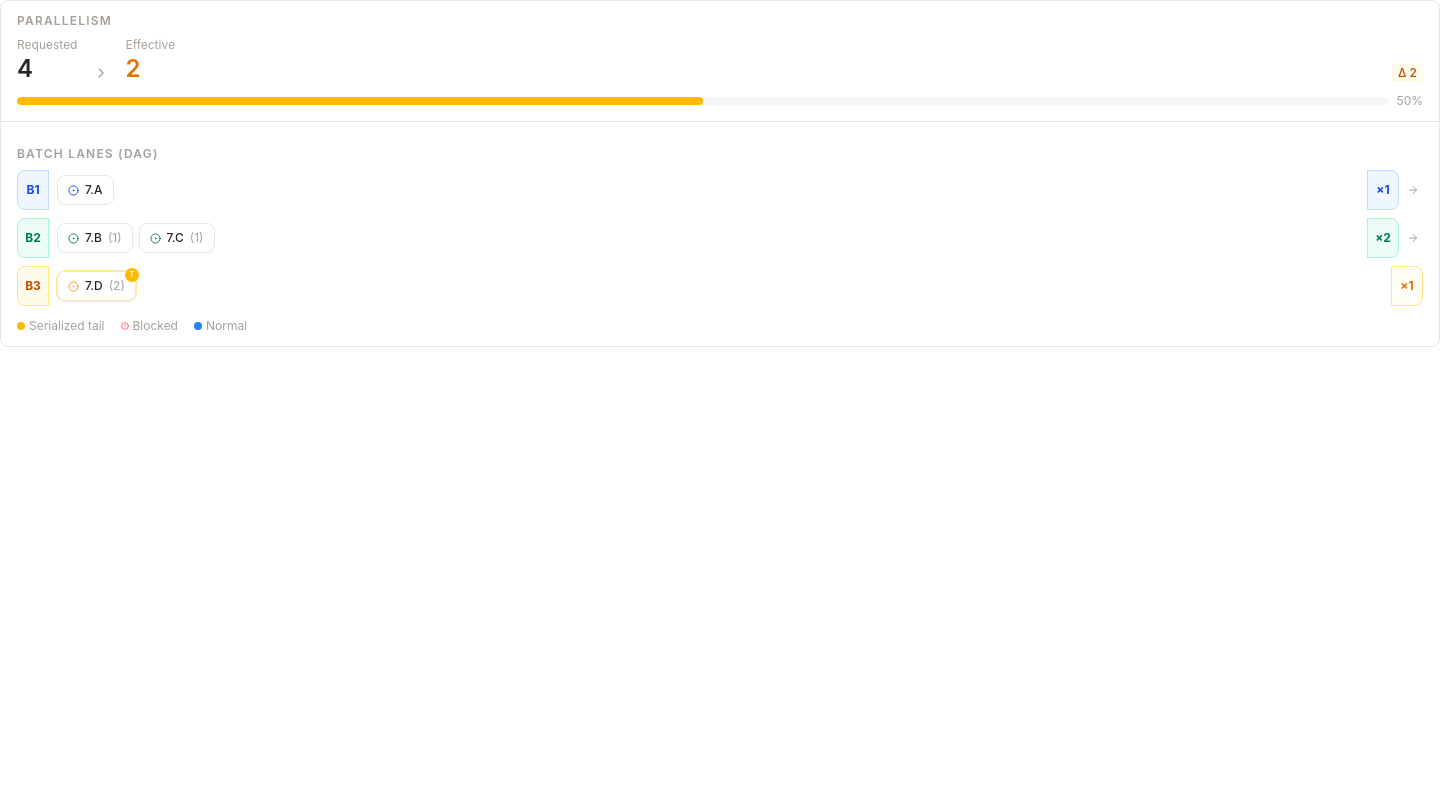
AC 3: Allows dependency editing with preview-before-save › adds a pending remove-dependency edit
What coordinates should you click on to do the following:
click the text "7.D"
I would click on:
 (94, 286)
Its box is left=85, top=278, right=103, bottom=294.
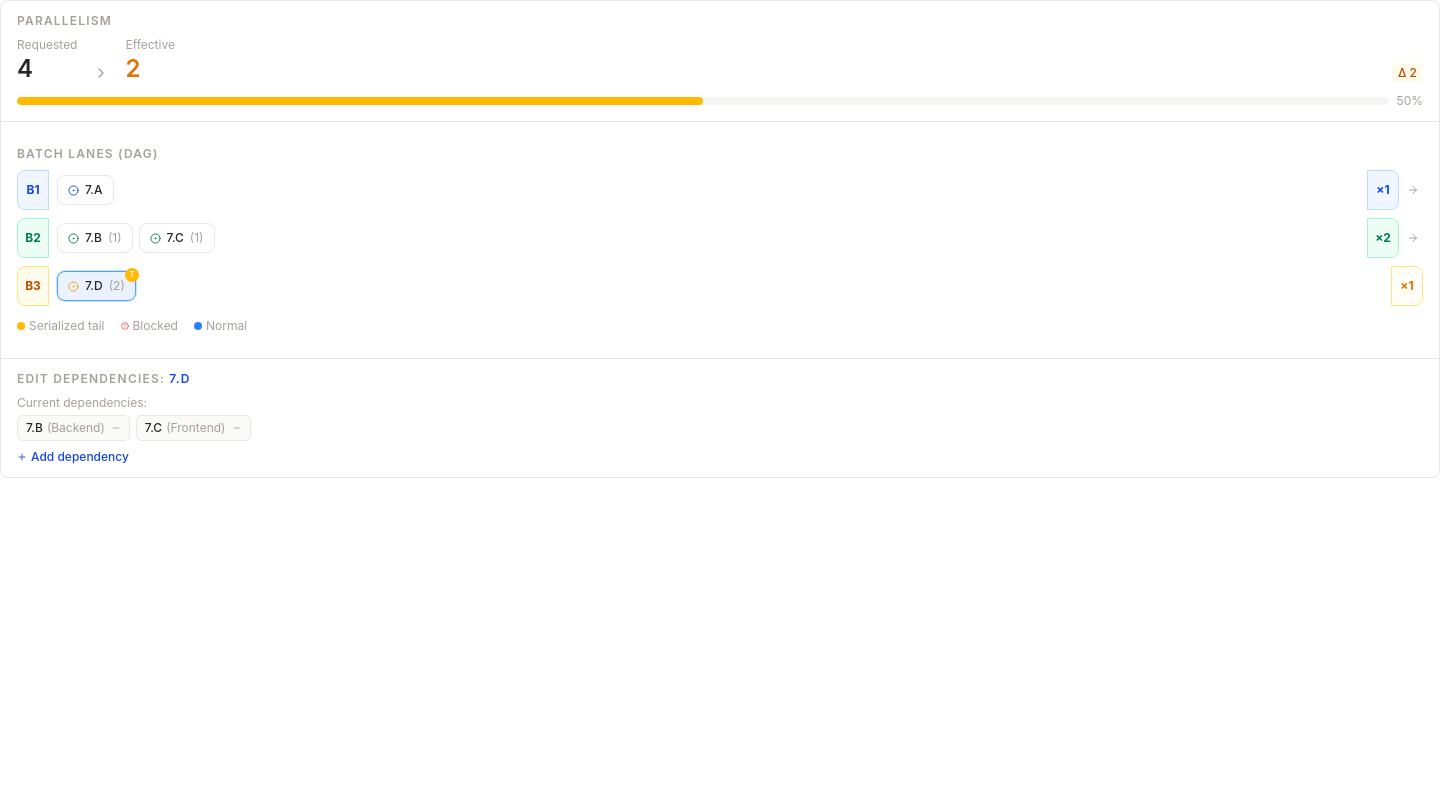
What coordinates should you click on to do the following:
click the button titled "Remove dependency" next to "Frontend"
I would click on:
 (236, 428)
Its box is left=232, top=423, right=242, bottom=433.
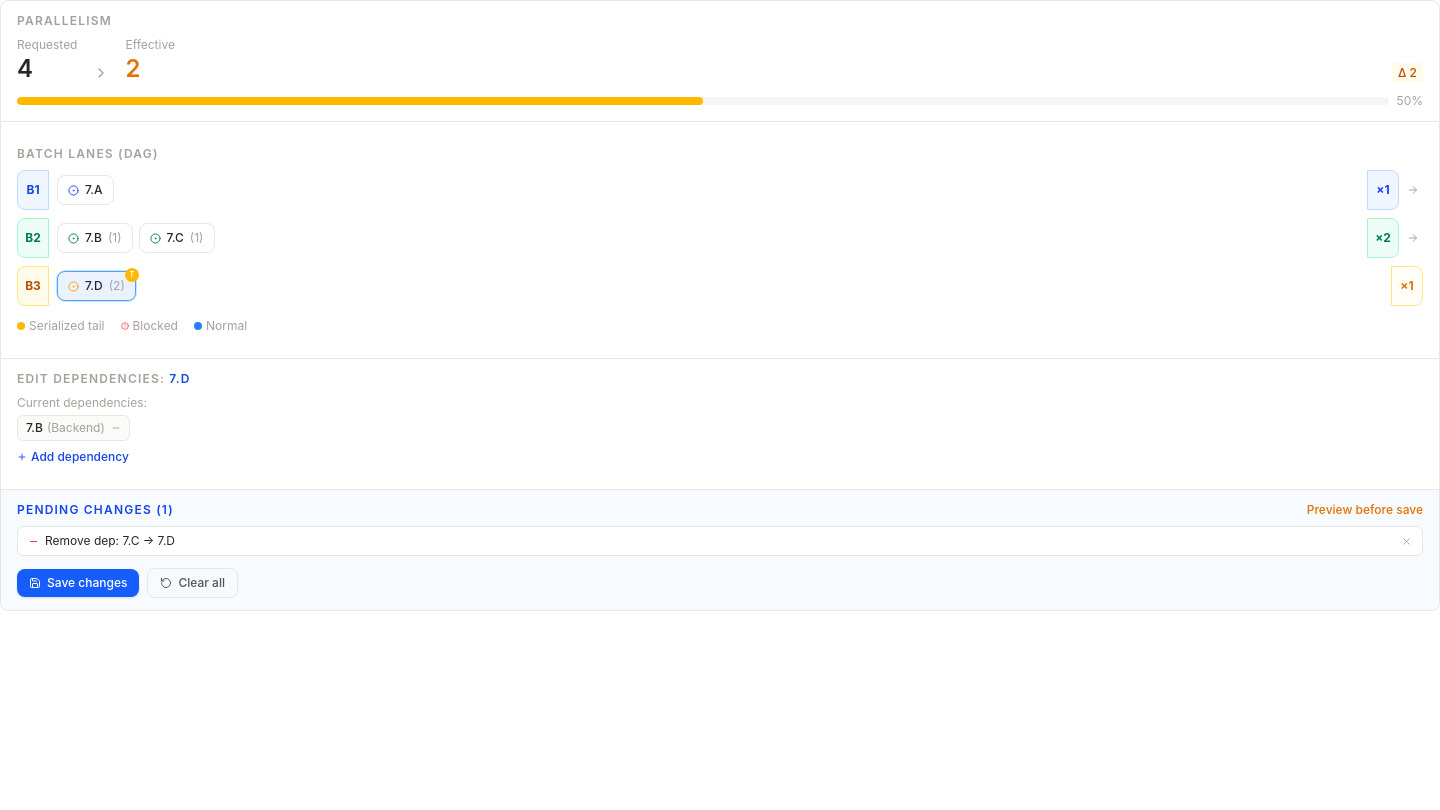
Check: the heading "Pending Changes (1)" is shown, box left=17, top=502, right=174, bottom=518
